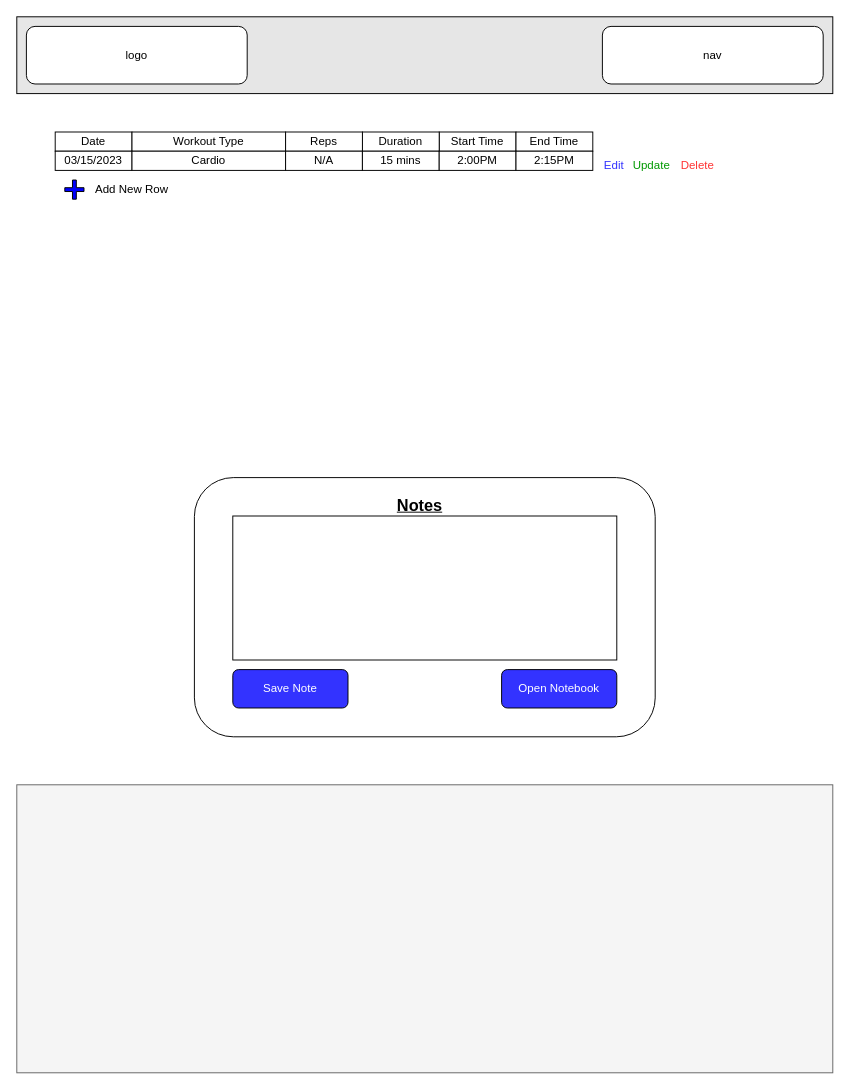
This 850x1090 diagram has some shape labels left out. Here are the shapes that lost their labels. From the top down, the box of each, then its label:
(16, 16, 833, 94): Workout Tracker
(232, 515, 617, 660): "Text Box"
(16, 784, 833, 1073): footer
